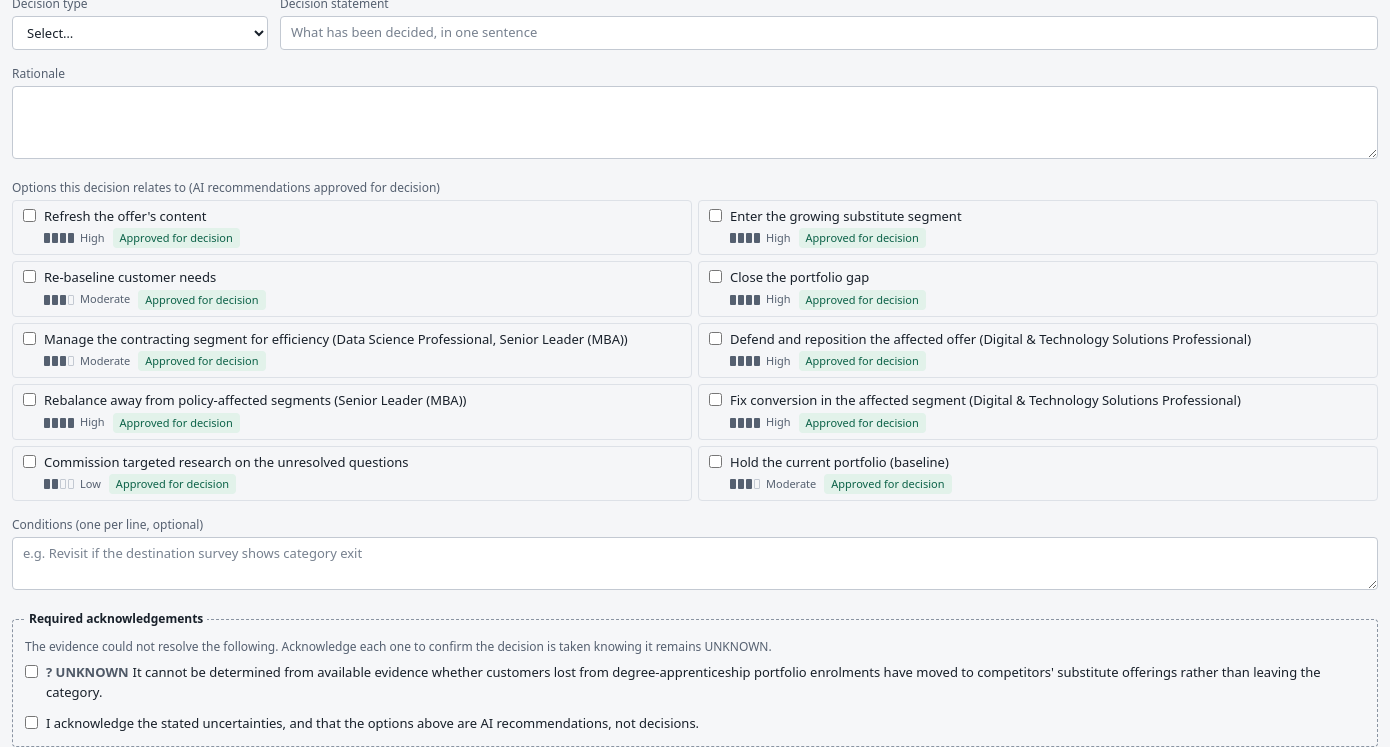
it: DecisionForm › keeps submit disabled until every unknown and the uncertainties are acknowledged
The width and height of the screenshot is (1390, 747).
Select "Adopt option(s)" in the dropdown labelled "Decision type": (140, 33) x1=12 y1=16 x2=268 y2=50
In the field labelled "Decision statement": (829, 33) x1=280 y1=16 x2=1378 y2=50, type "Refresh DTS content before redesign"
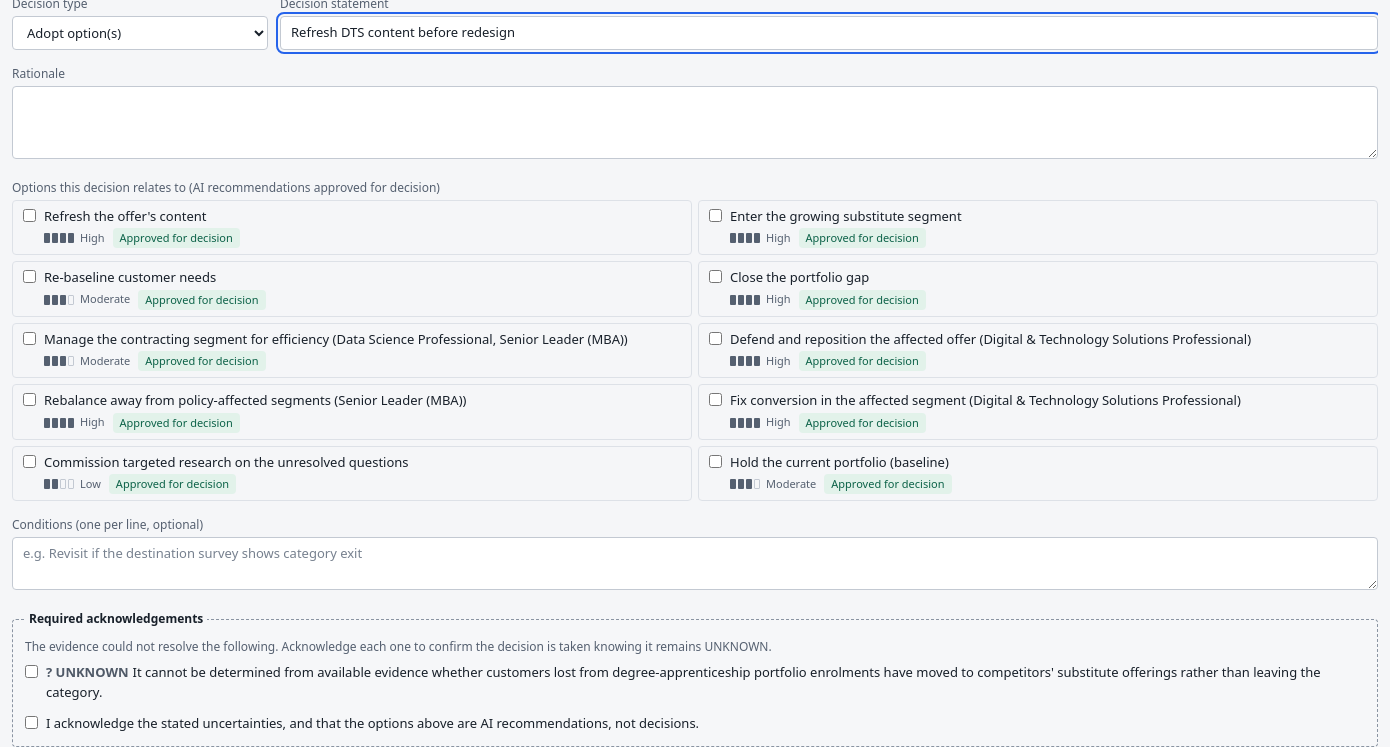
In the text box labelled "Rationale": (695, 122) x1=12 y1=86 x2=1378 y2=158, type "Strongest evidence; reversible."
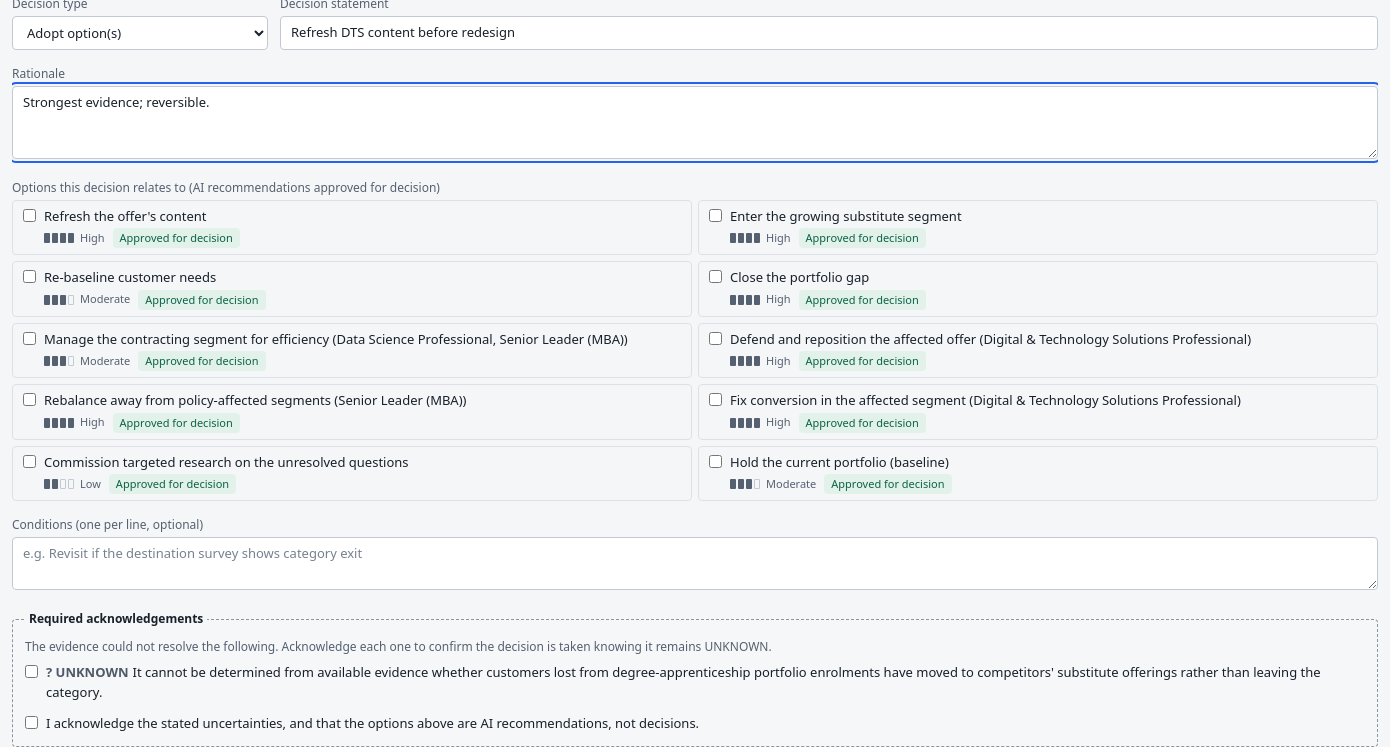
Click the checkbox labelled "Refresh the offer's content High Approved for decision": (30, 215) x1=23 y1=208 x2=36 y2=222
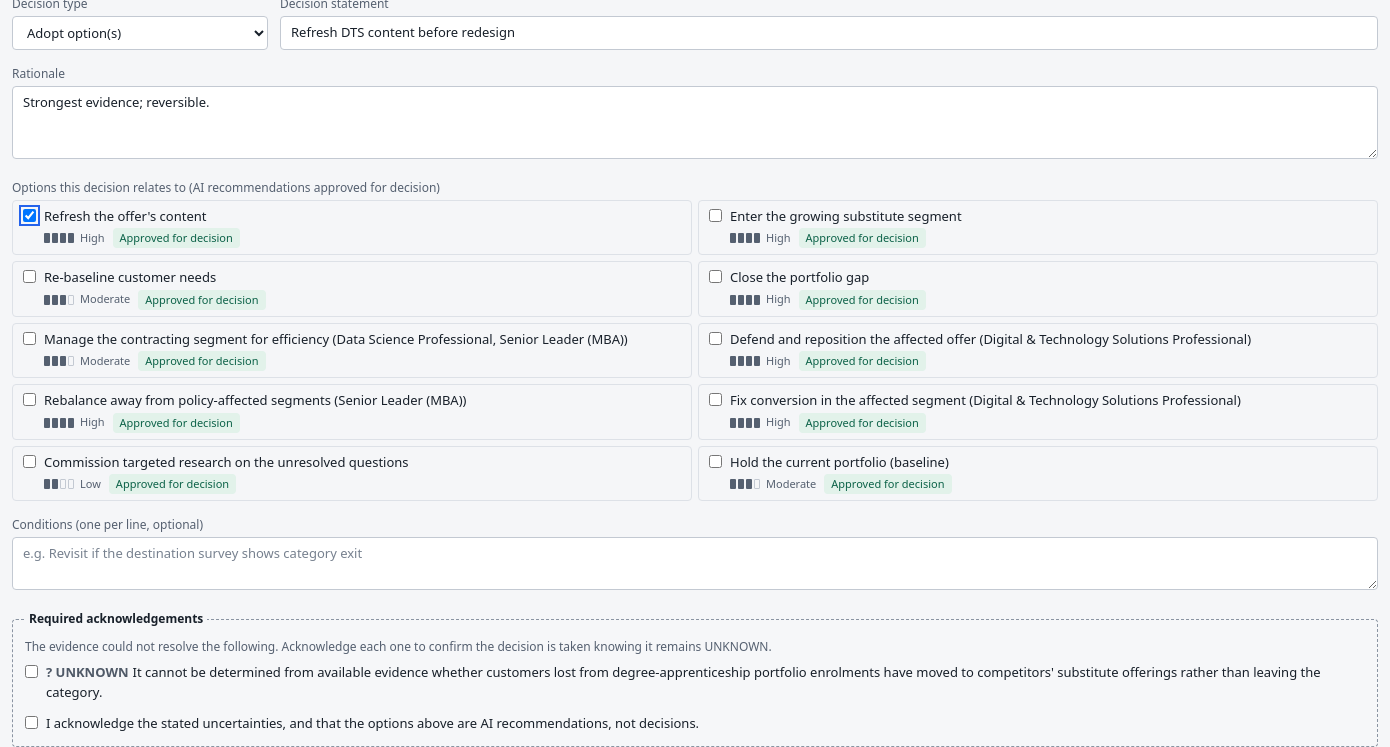
Click the checkbox labelled "It cannot be determined from available e": (32, 672) x1=25 y1=665 x2=38 y2=678
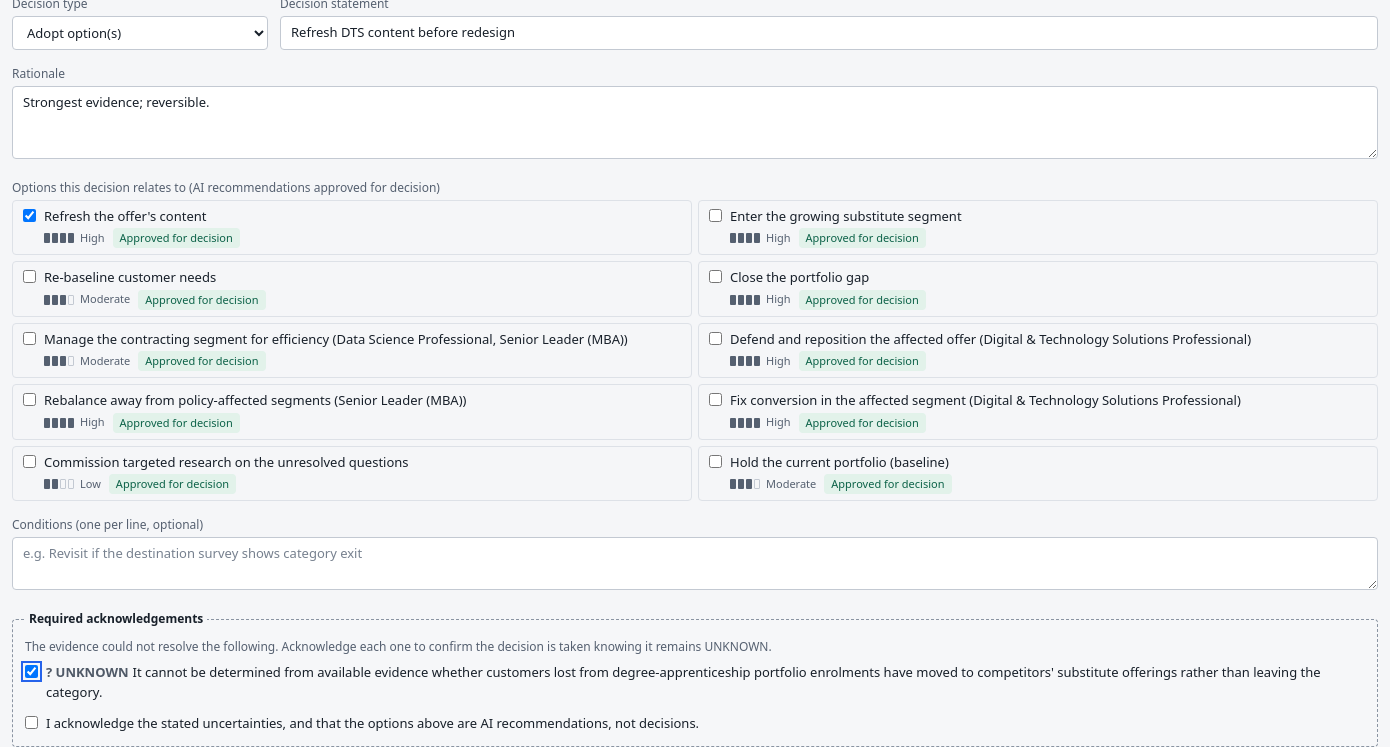
Click the checkbox labelled "I acknowledge the stated uncertainties": (32, 722) x1=25 y1=716 x2=38 y2=729
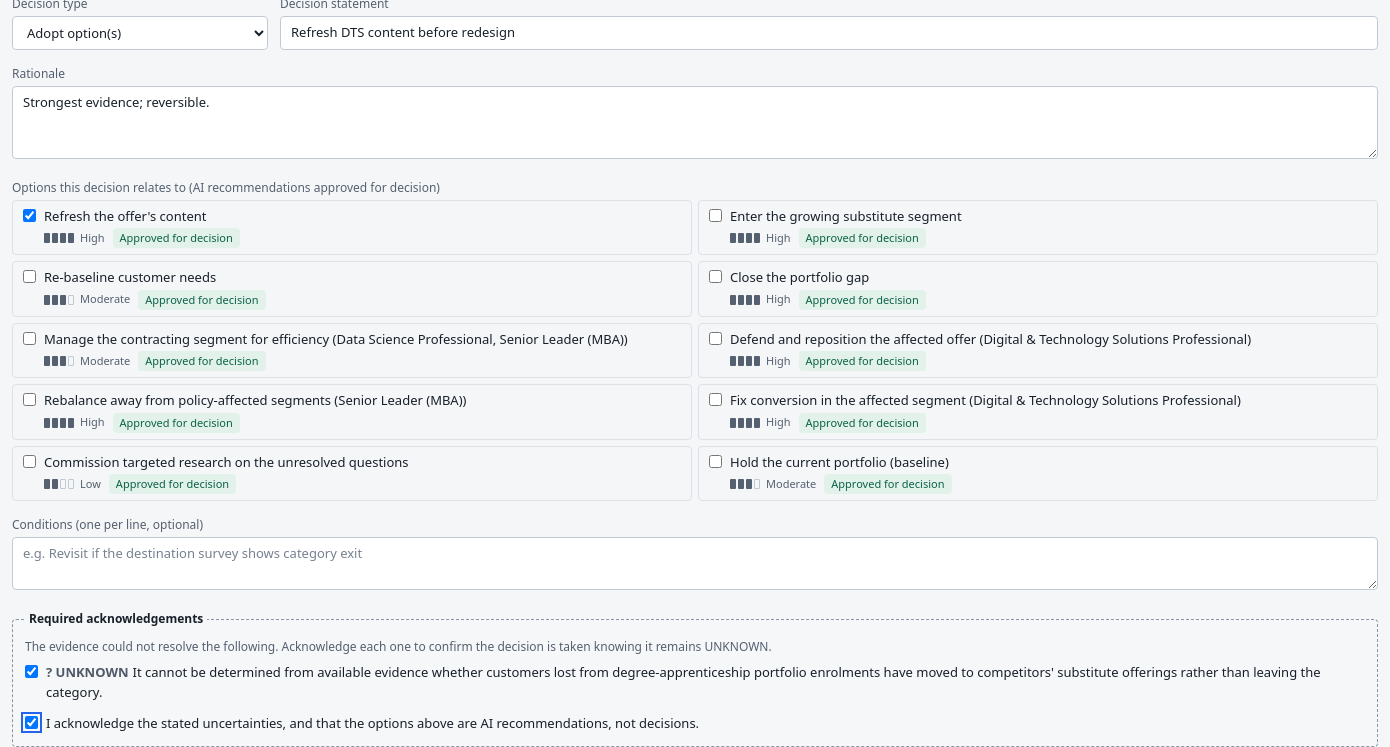
Click the checkbox labelled "It cannot be determined from available e": (32, 672) x1=25 y1=665 x2=38 y2=678
(page scrolled)
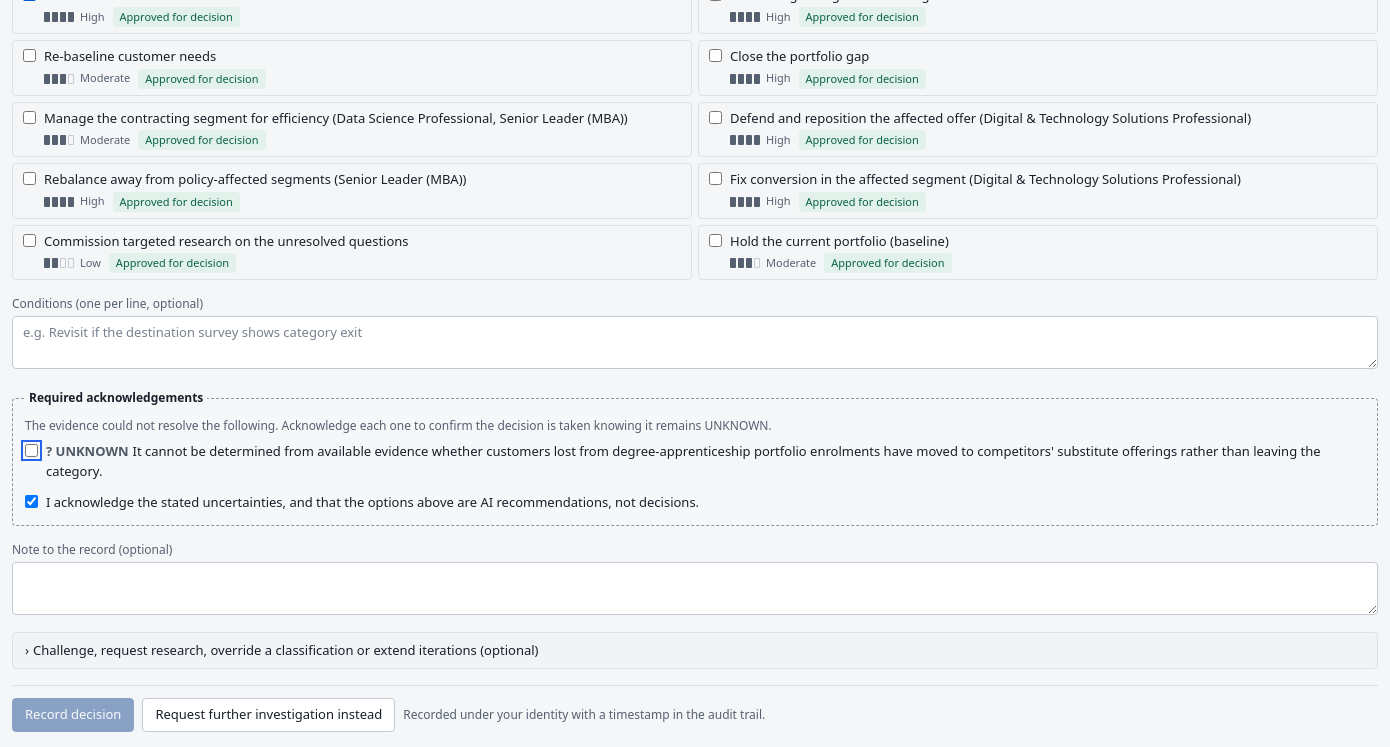
Result: the button "Record decision" is disabled at x1=12 y1=698 x2=134 y2=732
